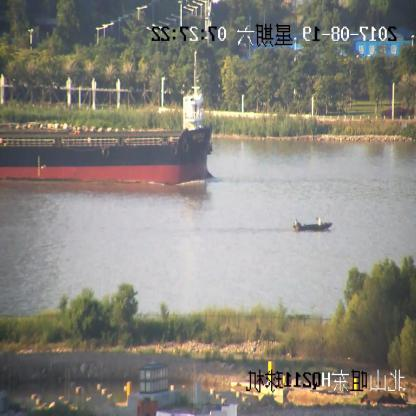Fishing Boat: (293, 216, 330, 235)
